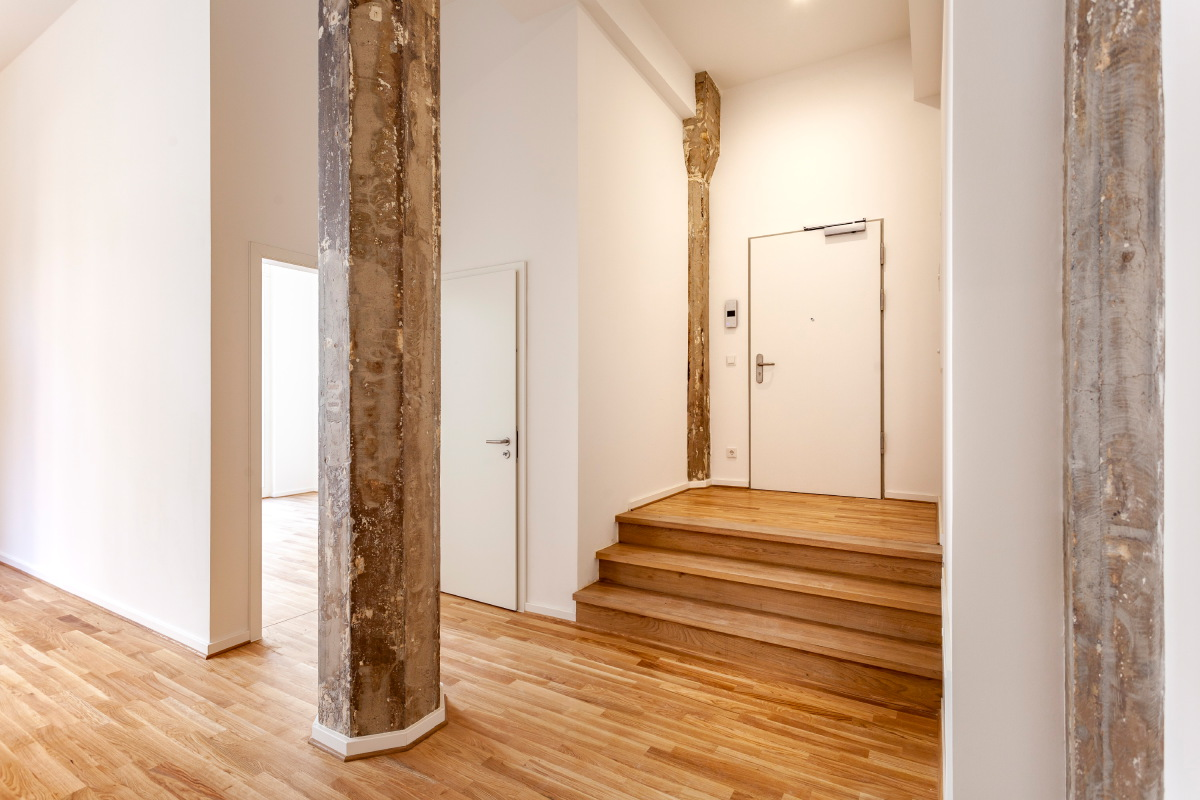door: (249, 240, 379, 640), (745, 219, 886, 505), (421, 262, 525, 612)
pillar: (320, 1, 440, 764)
wall: (953, 2, 1200, 800), (1, 1, 211, 659), (213, 1, 403, 653), (700, 37, 942, 502), (404, 1, 575, 620), (576, 1, 698, 621)
